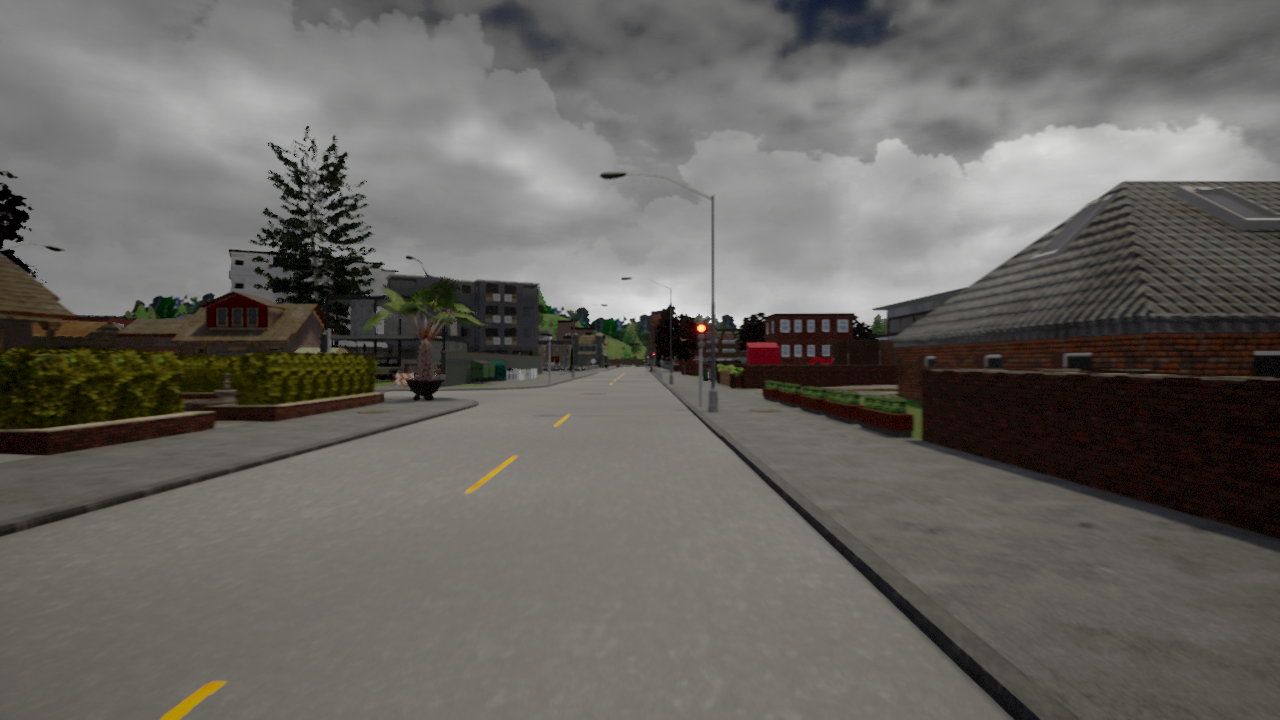red: (695, 321, 707, 348)
